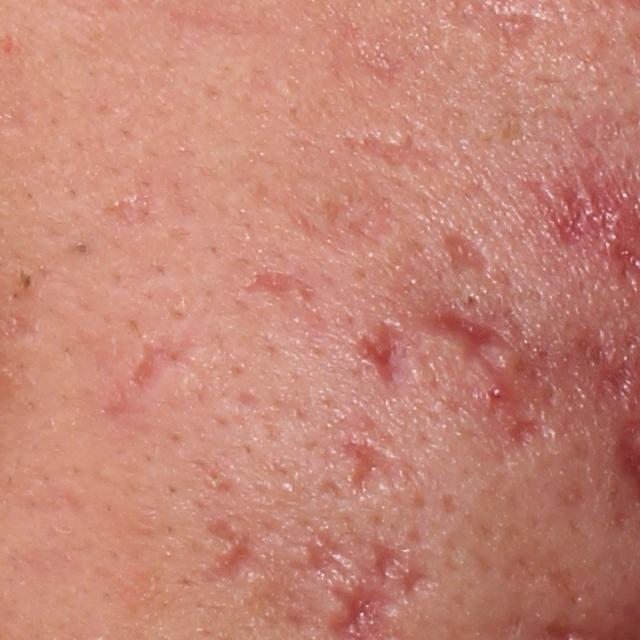atrophic_scar: (418, 309, 508, 375), (350, 129, 460, 172), (201, 520, 273, 585), (338, 437, 413, 498), (356, 319, 406, 390), (128, 330, 183, 392), (301, 528, 356, 585), (239, 268, 317, 306), (438, 229, 493, 275), (371, 537, 408, 578), (508, 419, 547, 450), (400, 562, 432, 598)
comedo: (69, 238, 92, 261)
